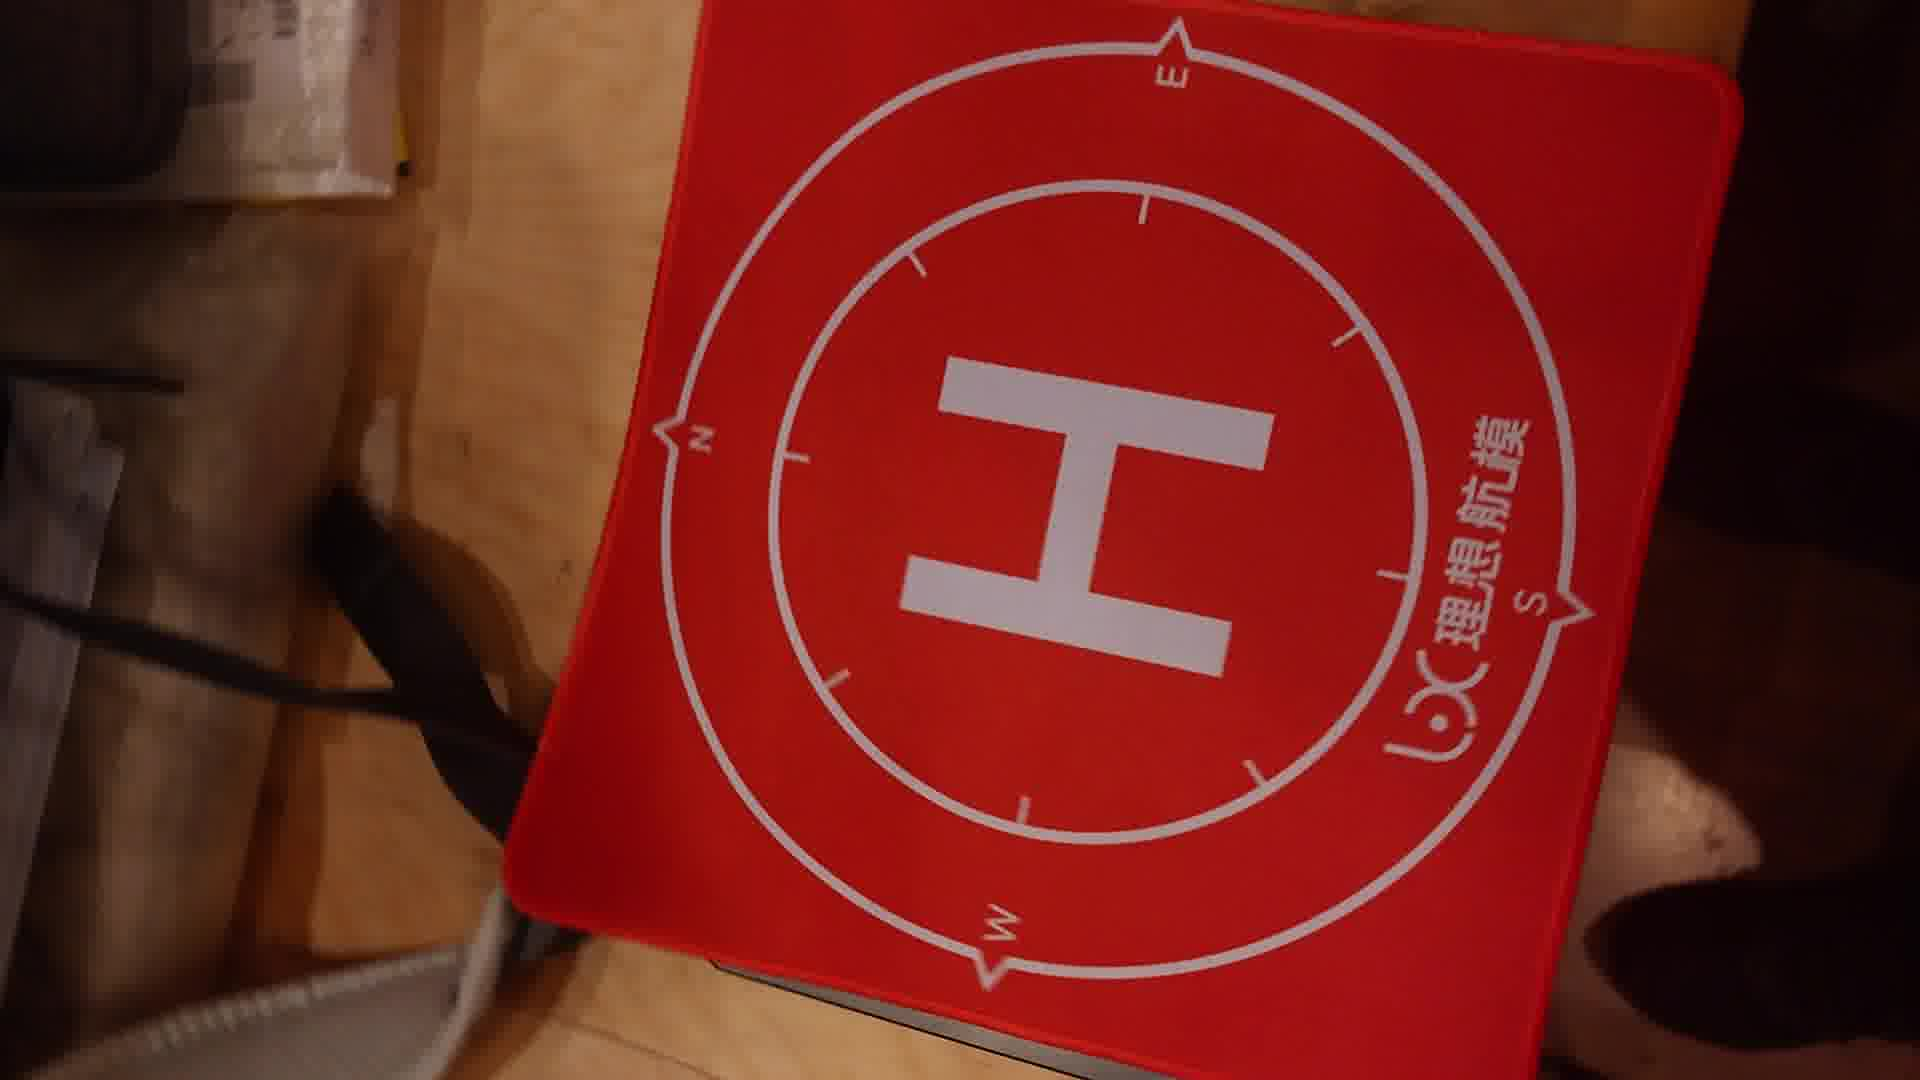H: (897, 357, 1280, 680)
